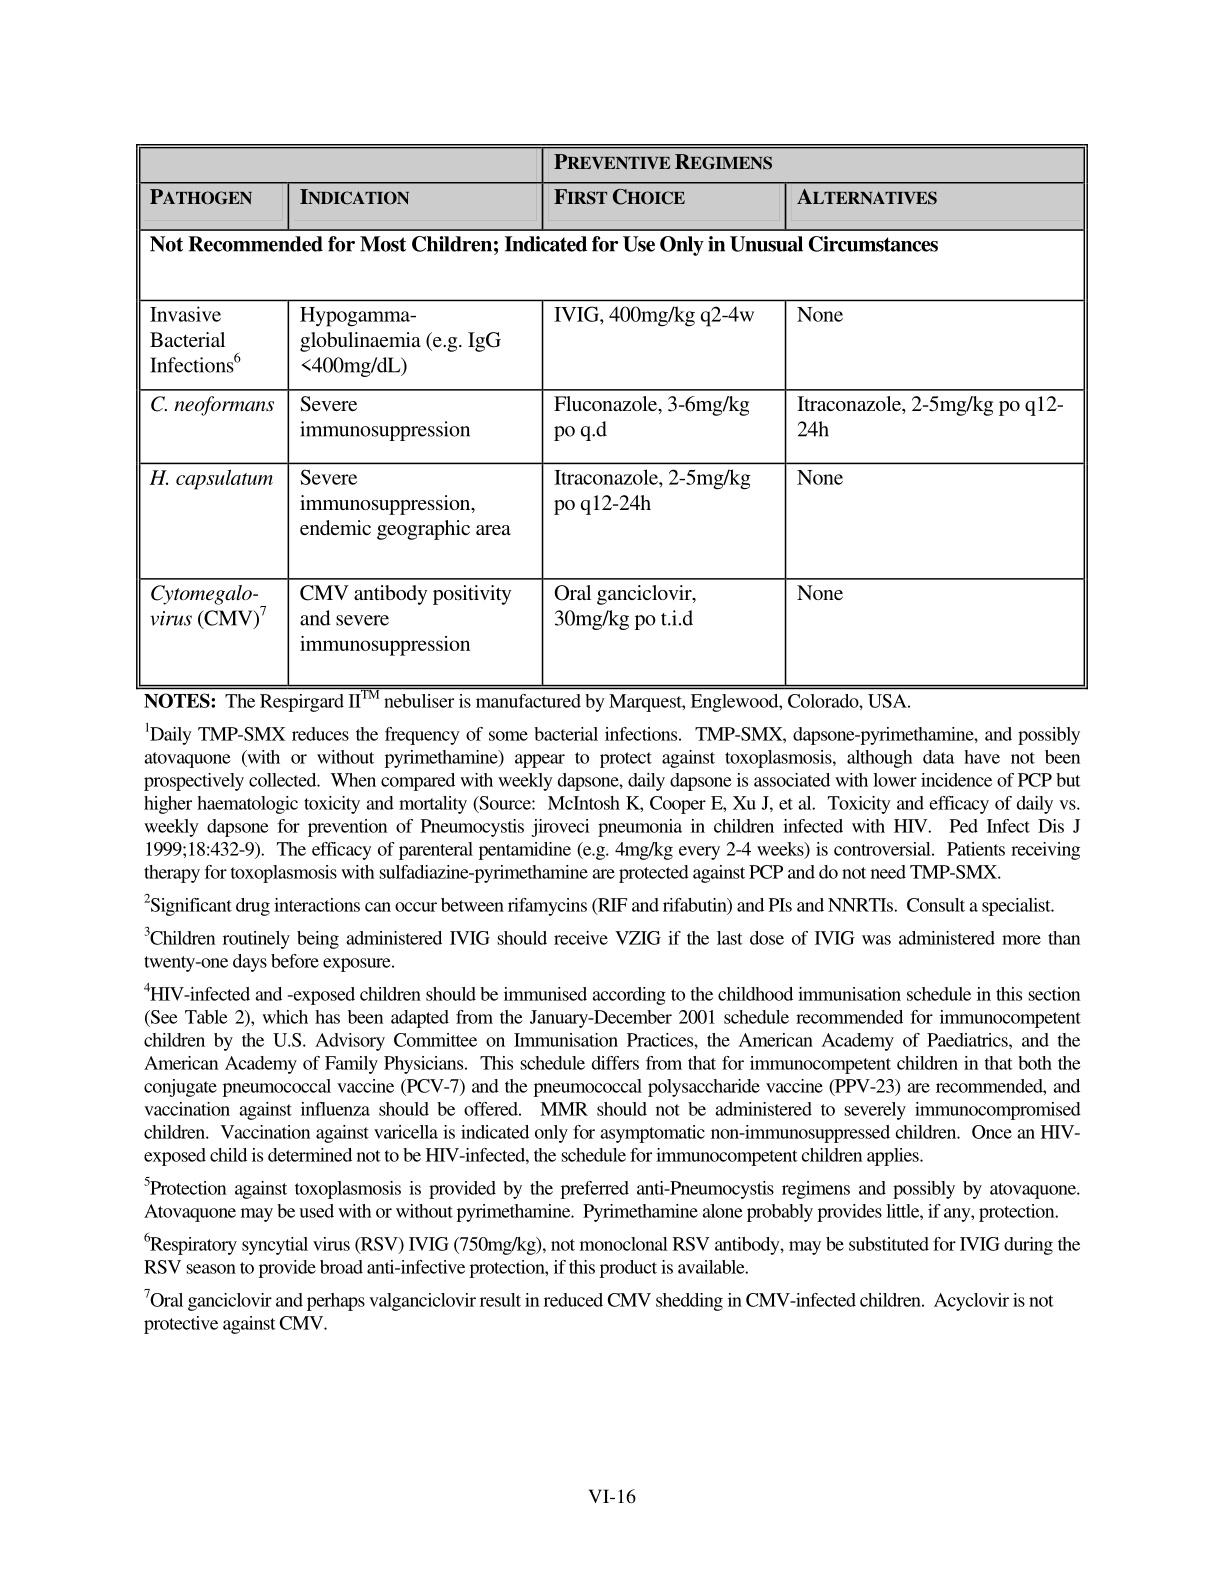merged_cells: (135, 144, 1089, 689)
